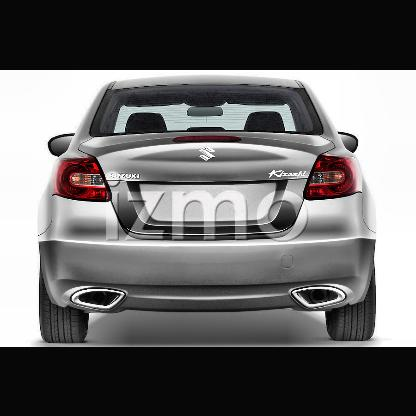Suzuki Kizashi Sedan 2012: (36, 72, 383, 347)
